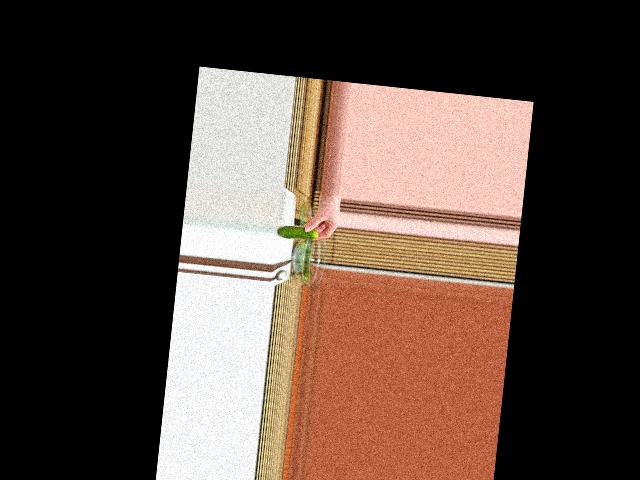cucumber: (277, 224, 318, 241)
